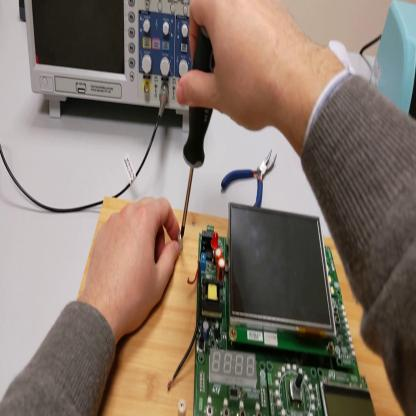hand: (175, 2, 299, 133), (83, 196, 182, 336)
low voltage board: (169, 206, 377, 410)
oscilloscope: (27, 2, 195, 126)
pliers: (222, 150, 285, 210)
screwdriver-: (181, 27, 217, 239)
socket: (18, 1, 28, 24)
welder station: (372, 7, 416, 124)
working area: (80, 199, 404, 416)
